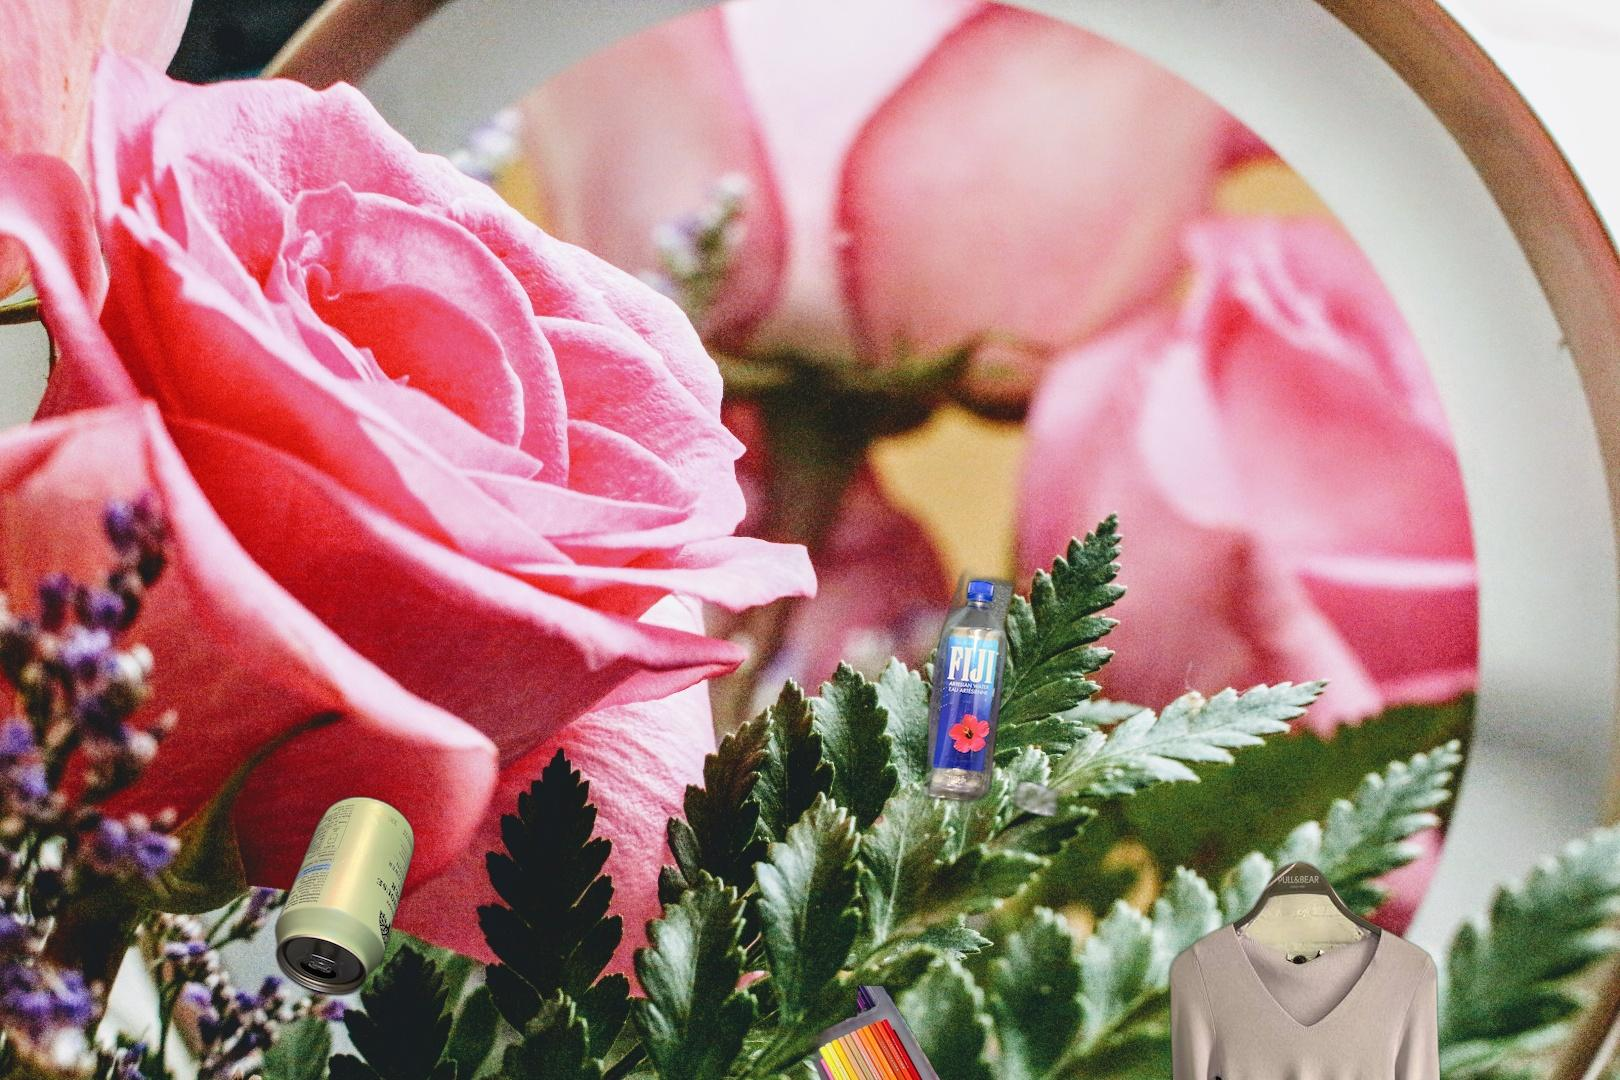clothes: (1166, 856, 1449, 1080)
metal-cans: (270, 790, 418, 1002)
penholder: (732, 986, 982, 1080)
plastic-bottles: (917, 560, 1019, 809)
trash: (896, 700, 1150, 875)
